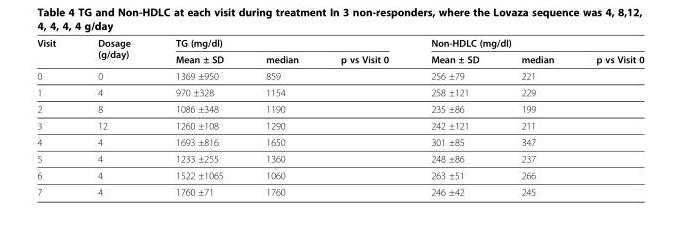table: (36, 36, 643, 197)
table column: (152, 36, 244, 197), (319, 36, 409, 197), (409, 36, 499, 197), (76, 36, 152, 197), (244, 36, 319, 197), (499, 36, 574, 197), (574, 36, 643, 197), (36, 36, 76, 197)
table column header: (36, 36, 643, 67)
table row: (36, 50, 643, 67), (36, 83, 643, 100), (36, 100, 643, 117), (36, 133, 643, 150), (36, 166, 643, 183), (36, 67, 643, 83), (36, 117, 643, 133), (36, 150, 643, 166), (36, 36, 643, 50), (36, 183, 643, 197)
table spanning cell: (152, 36, 409, 50), (409, 36, 643, 50), (76, 36, 152, 67), (36, 36, 76, 67)
